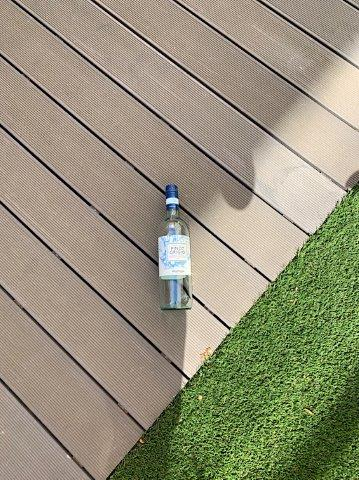botolkaca: (156, 185, 192, 310)
